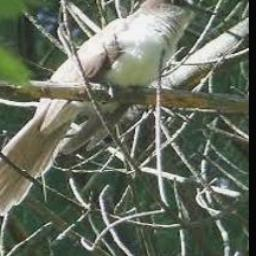Cuckoo: (0, 0, 218, 216)
